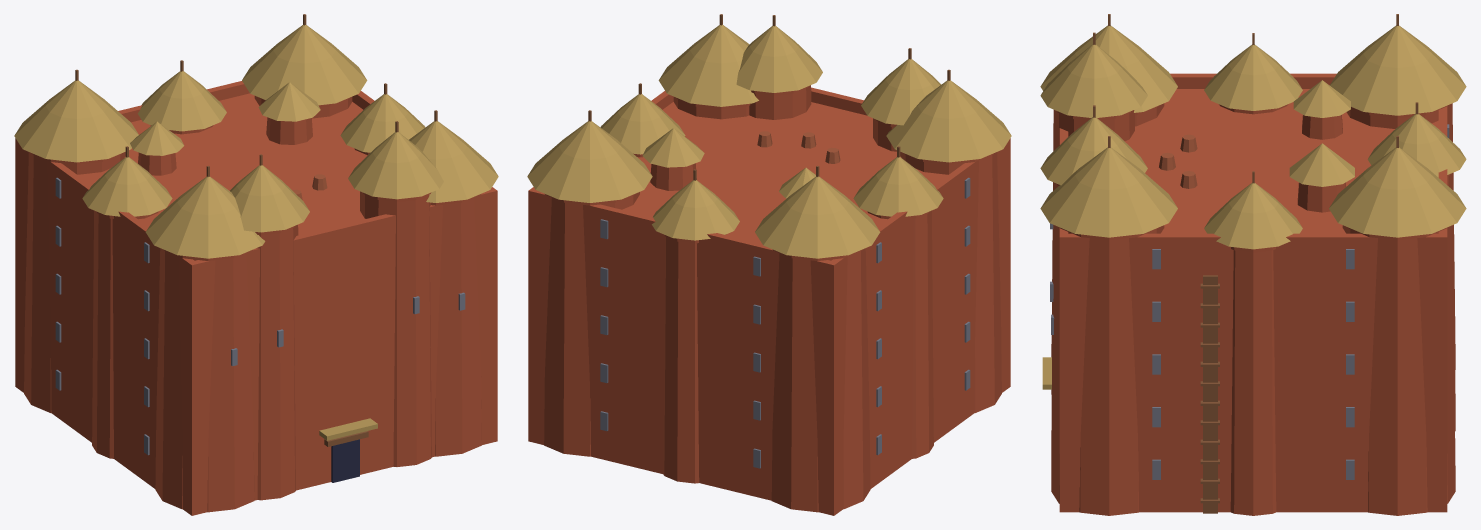
File: house-2x2-5f-tata-a.glb
3 renders of one model, left to right at view 1: azimuth 30°, elevation 25°; view 2: azimuth 150°, elevation 25°; view 3: azimuth 270°, elevation 25°, orthographic. The views are drawn at different scales.
Parts seen in each view (by area): view 1: house-2x2-5f-tata-a; view 2: house-2x2-5f-tata-a; view 3: house-2x2-5f-tata-a.
Part boxes in pixels (x1,y1,x2,y2): house-2x2-5f-tata-a: [14, 14, 498, 515]; house-2x2-5f-tata-a: [527, 14, 1011, 515]; house-2x2-5f-tata-a: [1040, 14, 1466, 515].
Bounding box in the file's own units: 1.98 × 1.85 × 1.98.
Materials: 1 (1 with a texture image).
